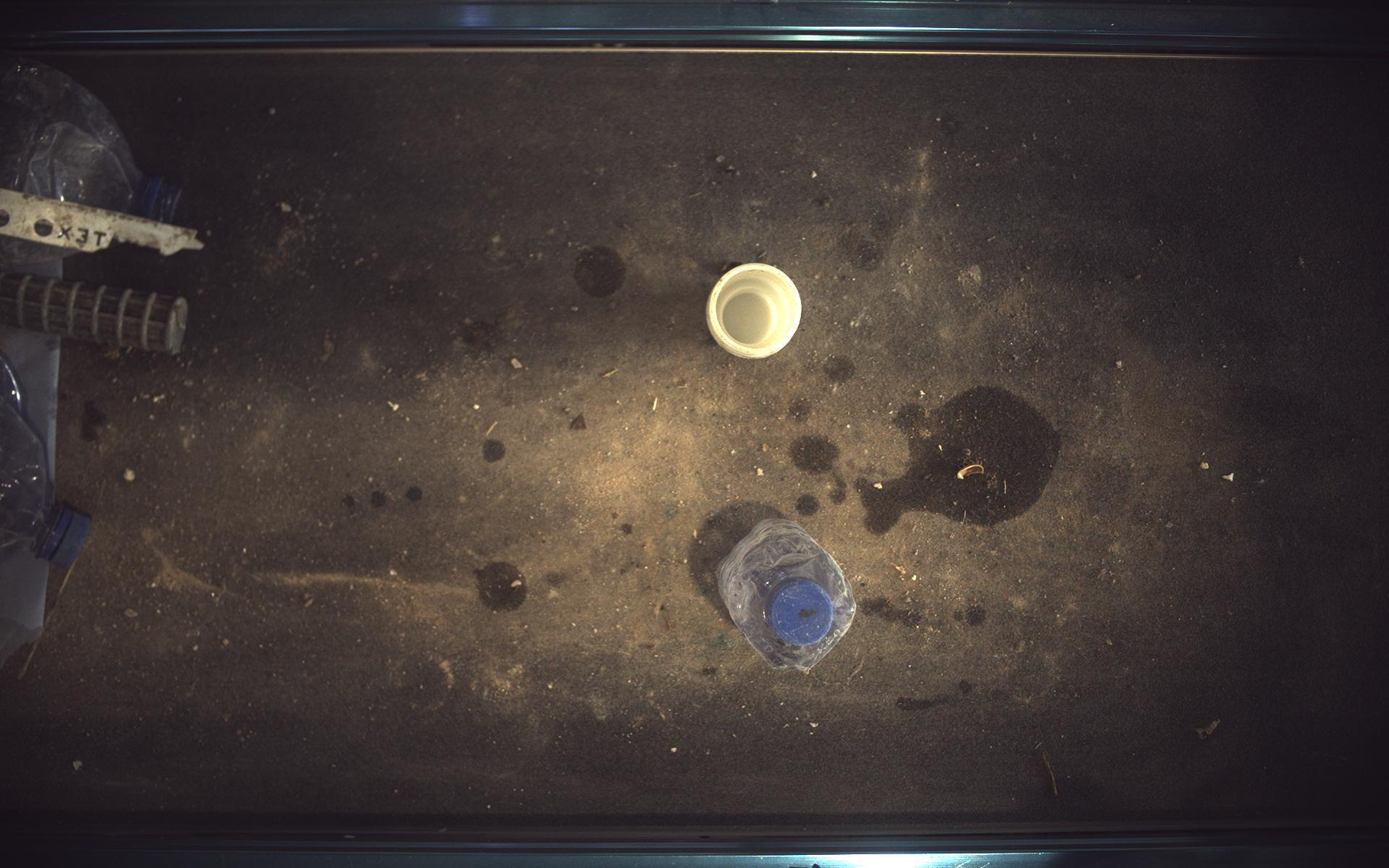general_w: (1, 51, 178, 221), (718, 519, 857, 672), (1, 352, 89, 568), (1, 236, 64, 271)
plastic: (1, 273, 187, 354), (1, 188, 203, 255), (708, 263, 802, 358)
